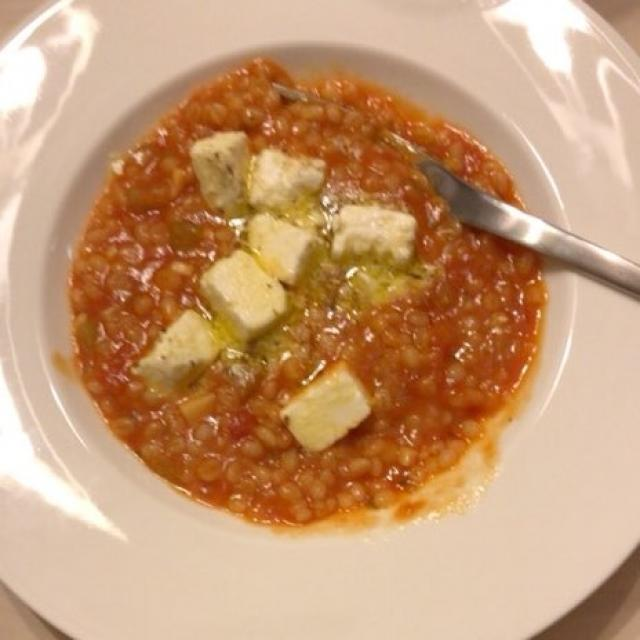cheese: (145, 131, 415, 458)
tomato-sauce: (78, 67, 543, 520)
